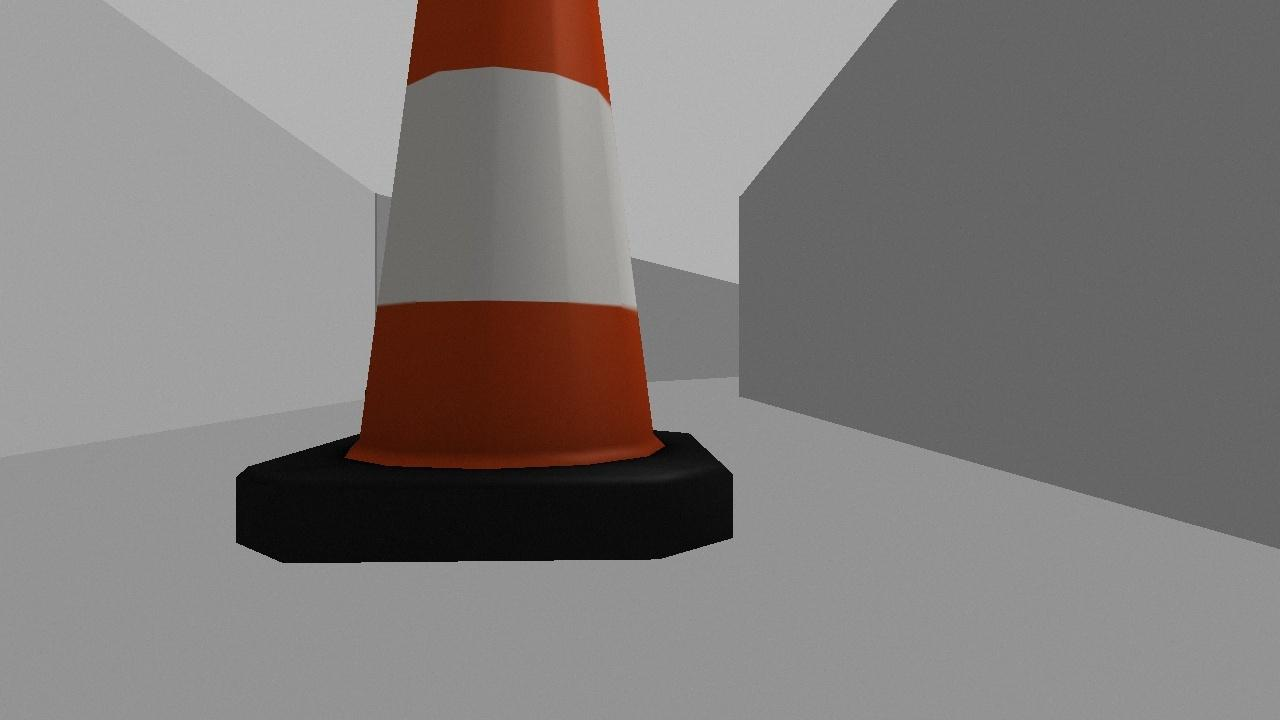cone_barrel: (193, 0, 756, 590)
